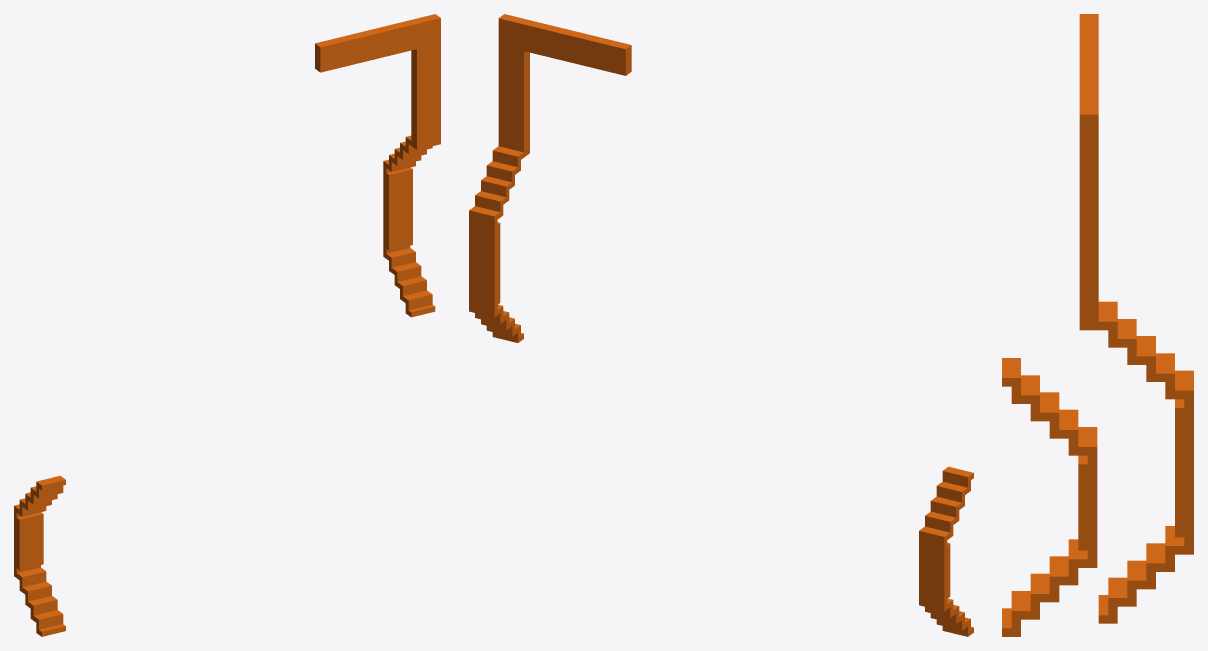
Rendered from stage2-3.fbx.
3 renders of one model, left to right at view 1: azimuth 30°, elevation 25°; view 2: azimuth 150°, elevation 25°; view 3: azimuth 270°, elevation 25°, orthographic. The views are drawn at different scales.
Visible parts, largest first — view 1: passage2; view 2: passage2; view 3: passage2.
Boxes of the visible parts, x1,y1,x2,y2 form: passage2: (14, 14, 440, 636); passage2: (469, 14, 973, 636); passage2: (1002, 14, 1193, 636).
Size of the model in its own units: 875 by 990 by 202.
